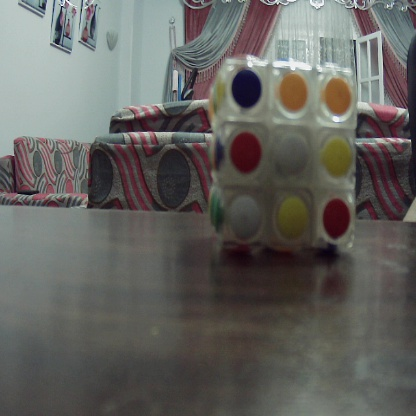Rubix Cube: (209, 57, 357, 251)
